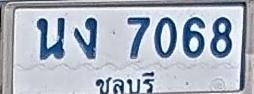0: (154, 16, 176, 58)
6: (182, 16, 204, 58)
7: (127, 16, 150, 59)
8: (210, 15, 232, 58)
A07: (74, 17, 97, 59)
A25: (36, 16, 65, 60)
CBI: (90, 69, 157, 94)
